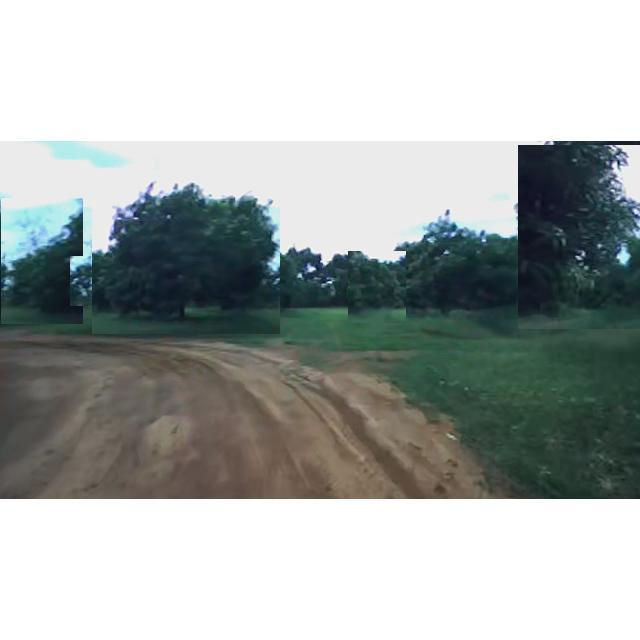tree: (92, 172, 280, 334), (518, 145, 640, 329), (390, 208, 536, 330), (1, 198, 83, 324), (348, 251, 406, 323), (278, 232, 324, 316), (70, 256, 100, 306)
